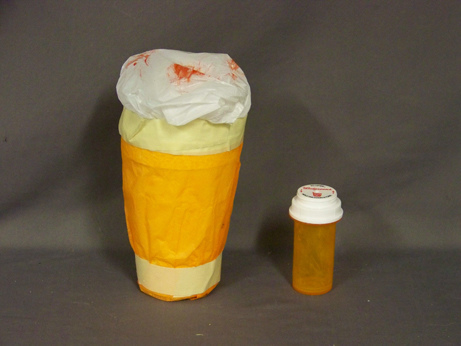pill bottle: (287, 180, 345, 298)
